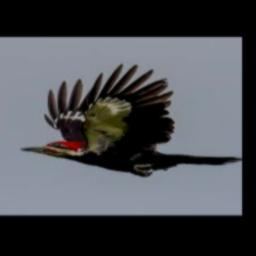Woodpecker: (19, 63, 241, 177)
